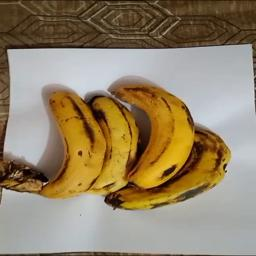Banana Semifresh: (38, 82, 236, 213)
